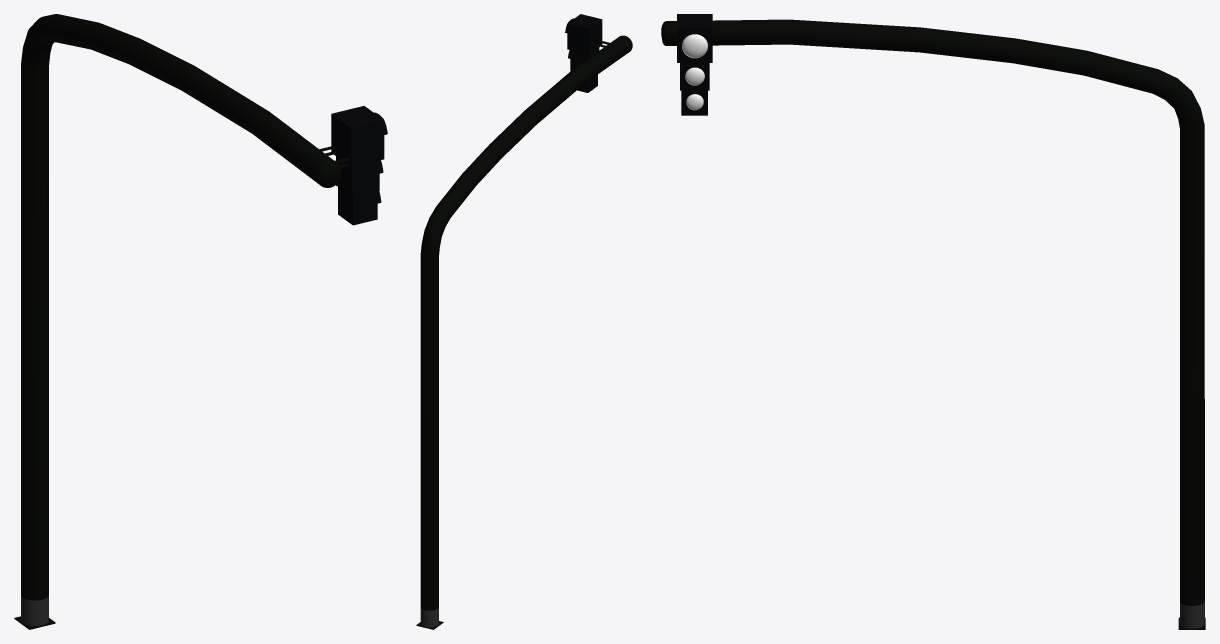
File: semaforo .fbx
3 views of the same model, side by side, from view 1: azimuth 30°, elevation 25°; view 2: azimuth 150°, elevation 25°; view 3: azimuth 270°, elevation 25° (orthographic). The views are drawn at different scales.
Parts seen in each view (by area): view 1: Cube.001; view 2: Cube.001; view 3: Cube.001.
Part boxes in pixels (bbox=[...]): Cube.001: bbox=[14, 14, 387, 629]; Cube.001: bbox=[416, 14, 632, 629]; Cube.001: bbox=[661, 14, 1205, 629].
Bounding box in the file's own units: 25.81 × 215 × 170.
Materials: 3 (3 with a texture image).
